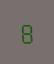eight: (19, 20, 33, 43)
